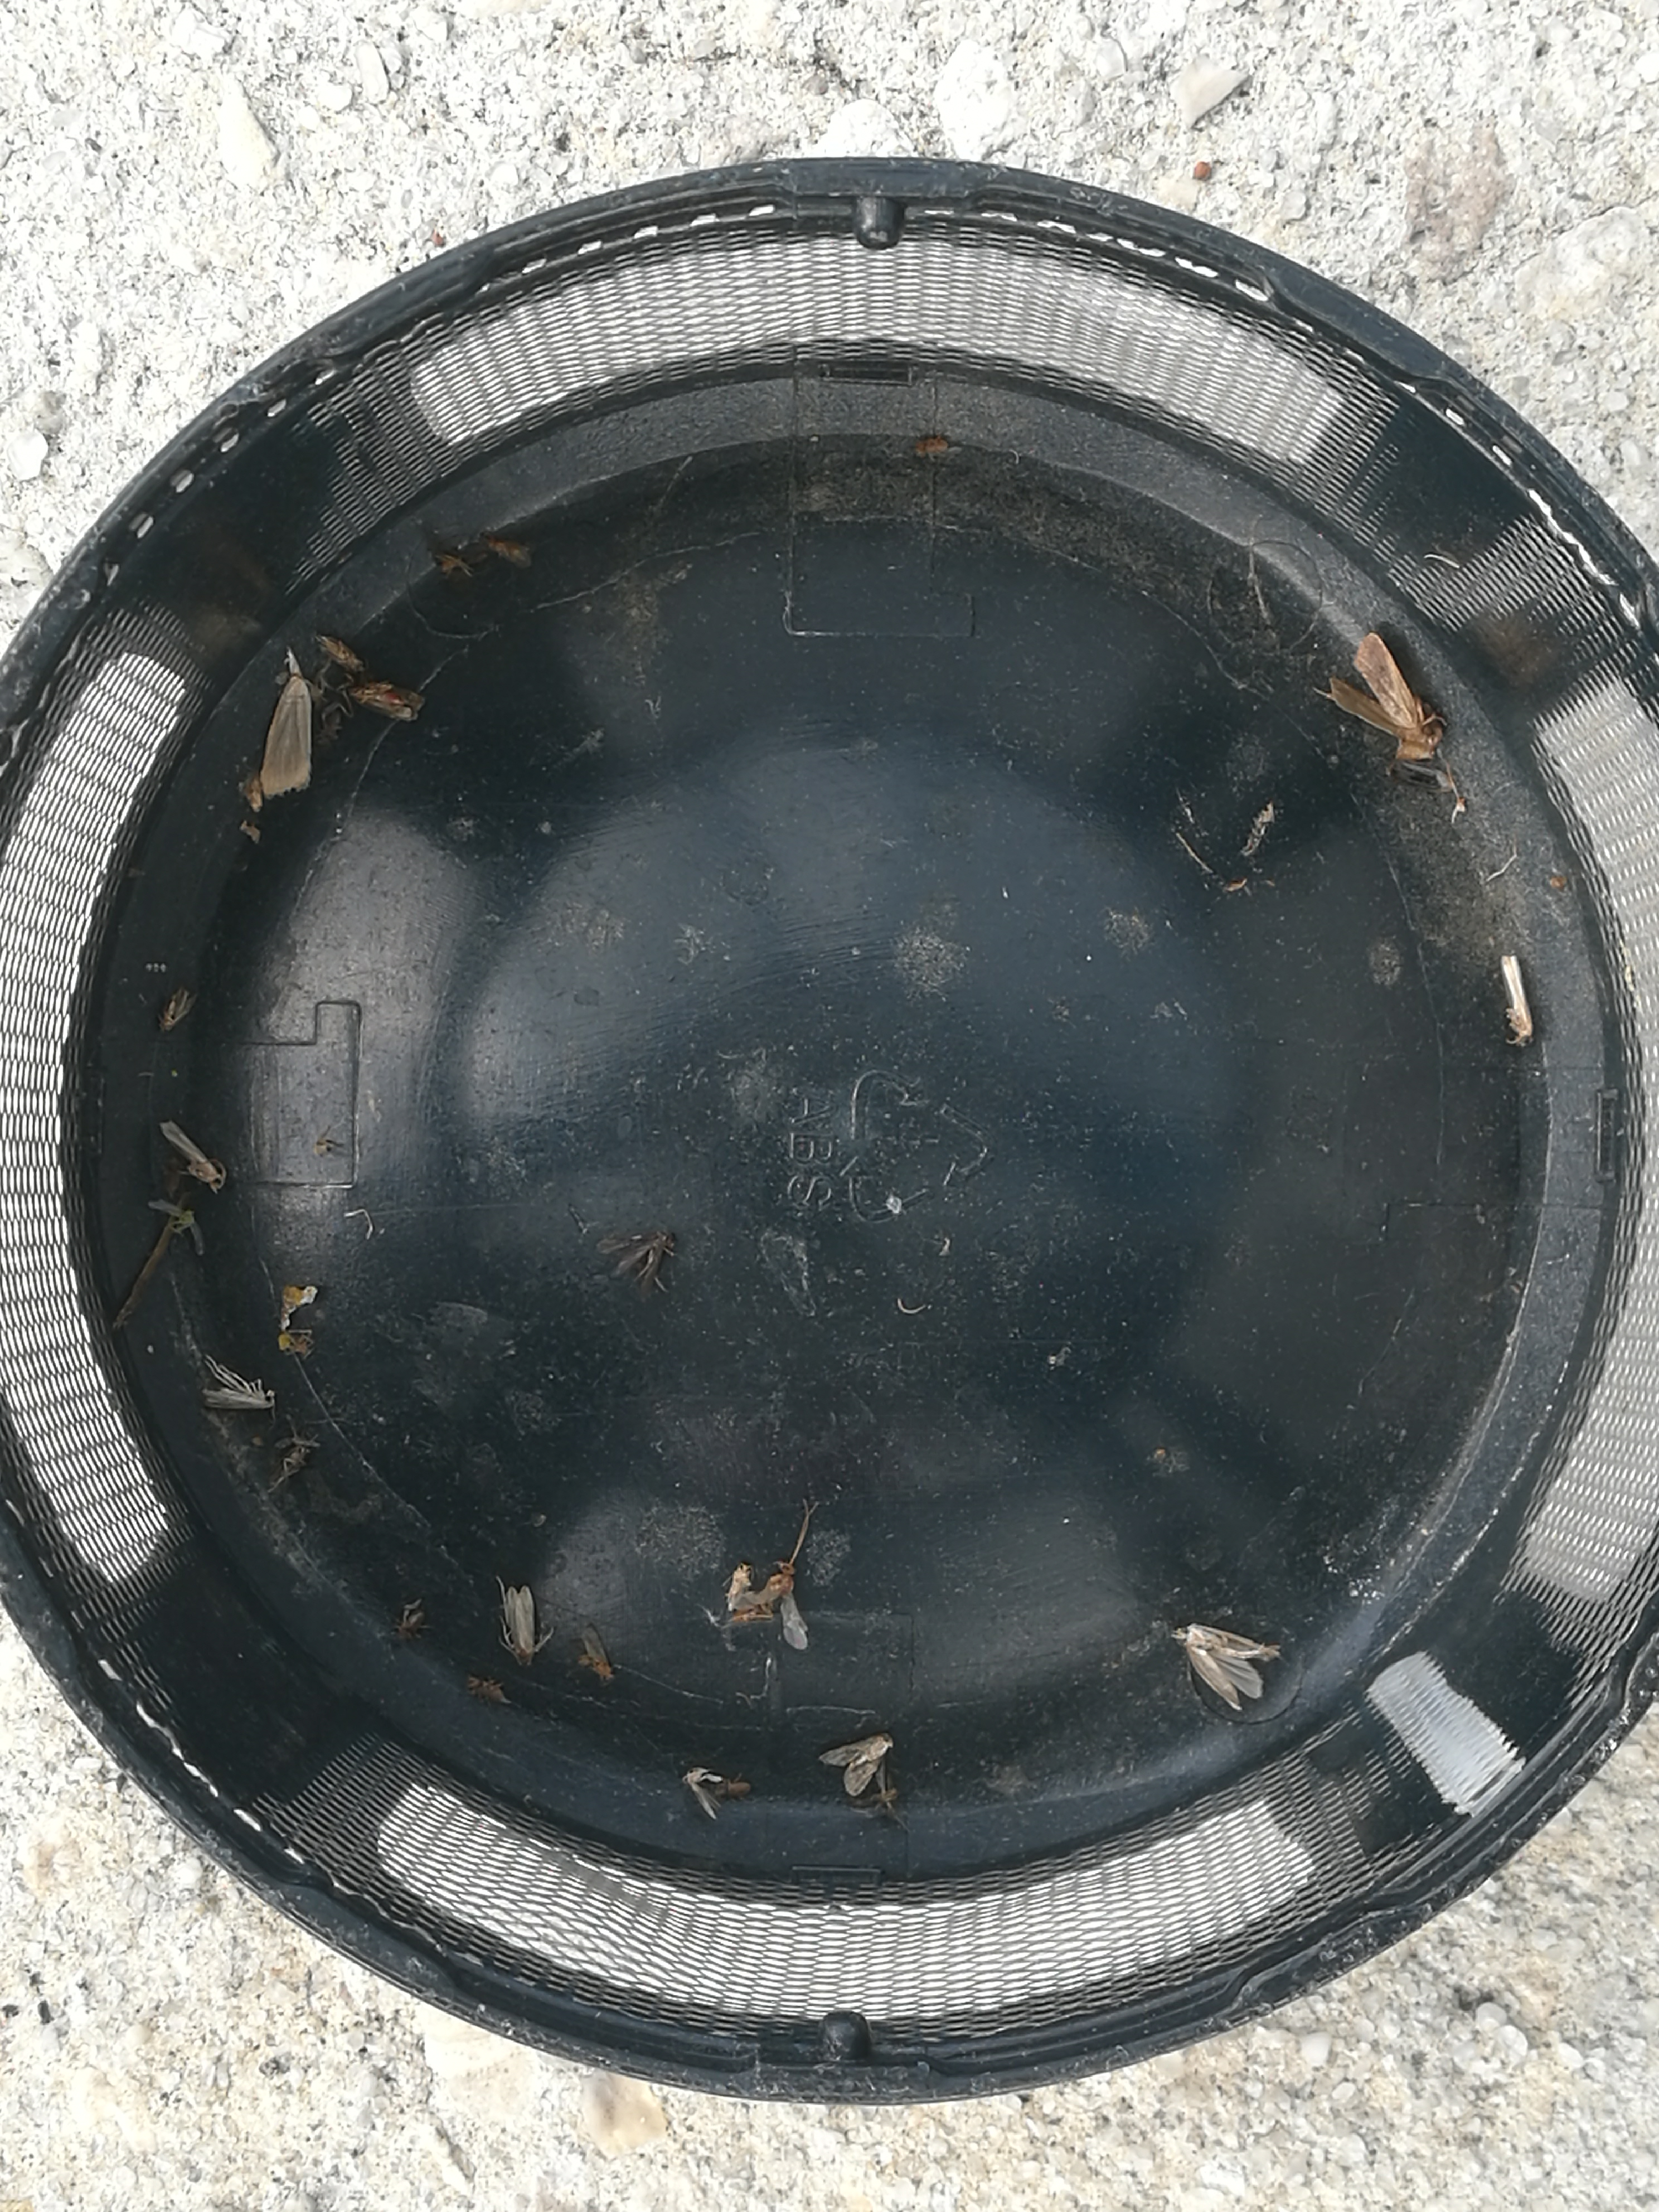mosquito: (164, 1122, 225, 1197), (199, 1360, 272, 1413), (1500, 953, 1532, 1045), (580, 1629, 613, 1679), (322, 637, 364, 674), (160, 989, 193, 1029), (486, 538, 532, 566), (730, 1564, 751, 1613)
moth: (1331, 632, 1445, 758), (1171, 1623, 1281, 1714), (821, 1737, 892, 1794), (347, 683, 422, 719), (507, 1587, 537, 1663)
